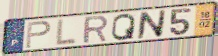5: (169, 7, 193, 37)
L: (54, 17, 79, 47)
N: (136, 9, 168, 40)
P: (24, 20, 53, 50)
Q: (110, 12, 136, 42)
R: (82, 14, 109, 45)
